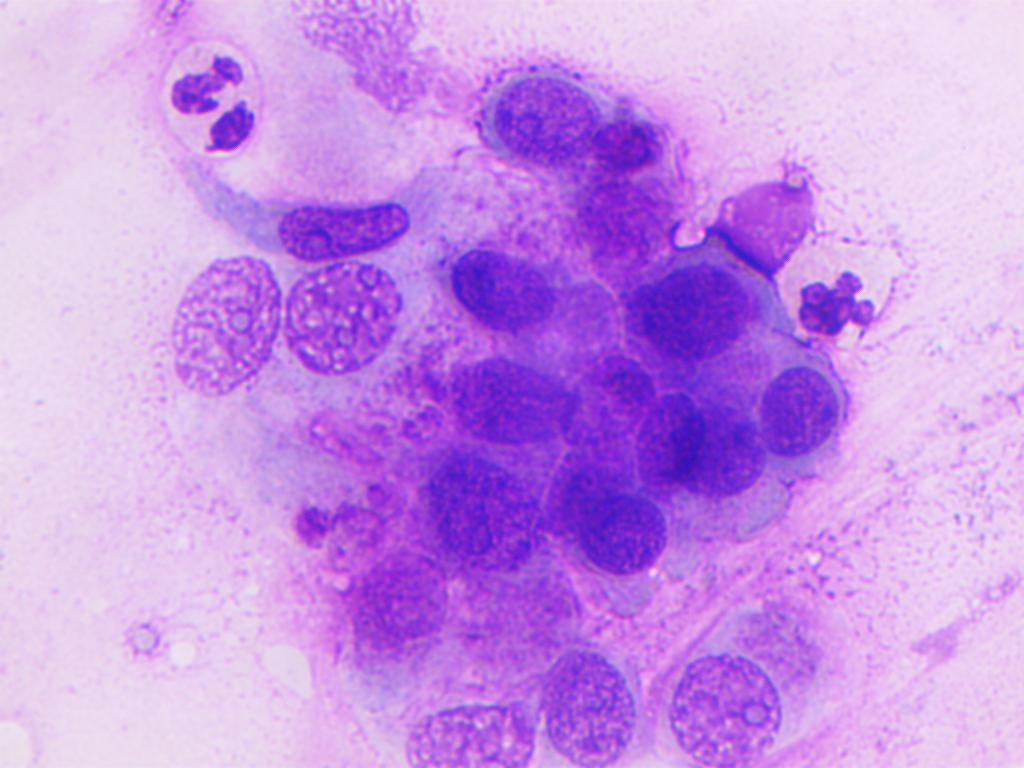epithelial: (151, 248, 280, 415), (649, 644, 807, 768), (414, 441, 552, 577), (285, 260, 418, 386), (229, 180, 421, 261), (434, 349, 576, 457), (523, 635, 640, 763), (429, 245, 565, 352), (569, 458, 679, 583), (472, 55, 592, 168), (634, 247, 757, 354), (561, 340, 676, 451), (359, 527, 461, 649), (760, 352, 846, 472), (679, 381, 761, 502), (401, 694, 532, 768), (572, 163, 675, 254), (633, 386, 701, 488)
goblet_cell: (697, 148, 814, 338)
neutrophil: (137, 33, 274, 159), (796, 269, 914, 346)
